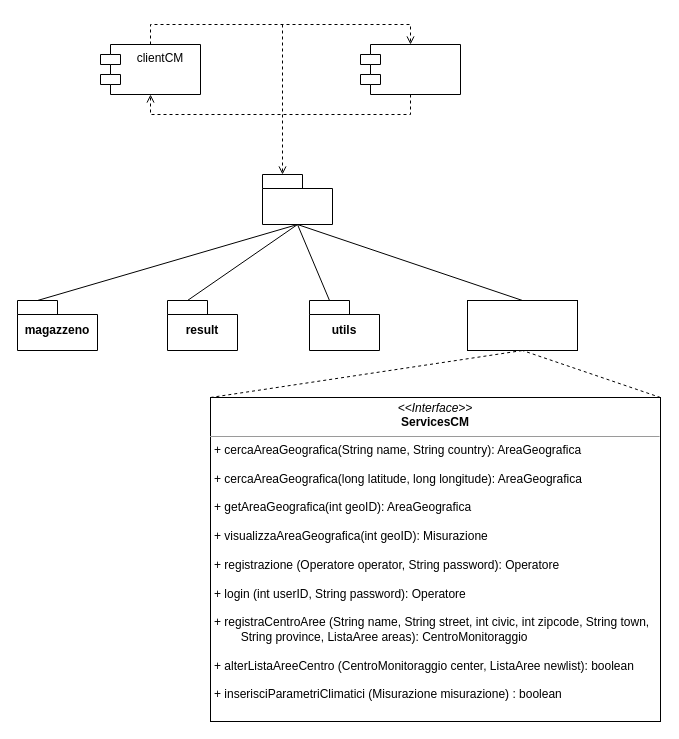
Some shapes in this 679 by 739 pixel diagram are drawn without their labels. The shapes that lost their labels are listed below. From the top down, each one's centre as x and y in pixels, then its label:
At (410,69): "serverCM".
At (297,199): "commons".
At (522,325): "«interface» ServicesCM".
